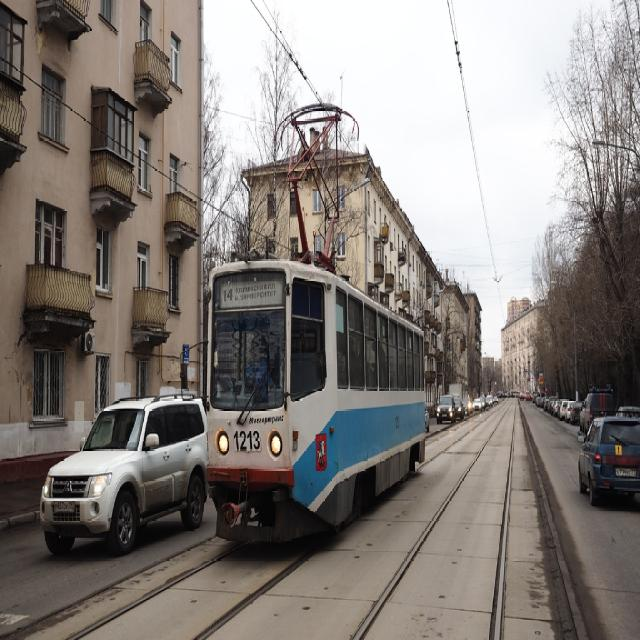car: (435, 390, 456, 426), (469, 393, 480, 409)
